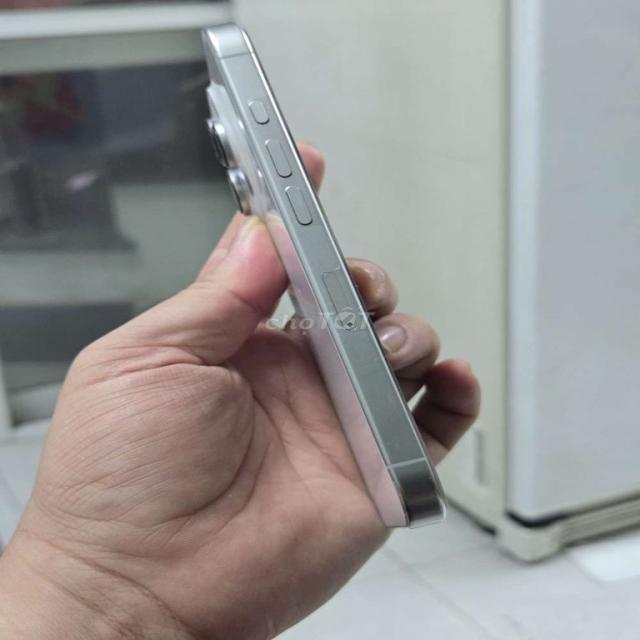gen_16: (202, 23, 445, 526)
